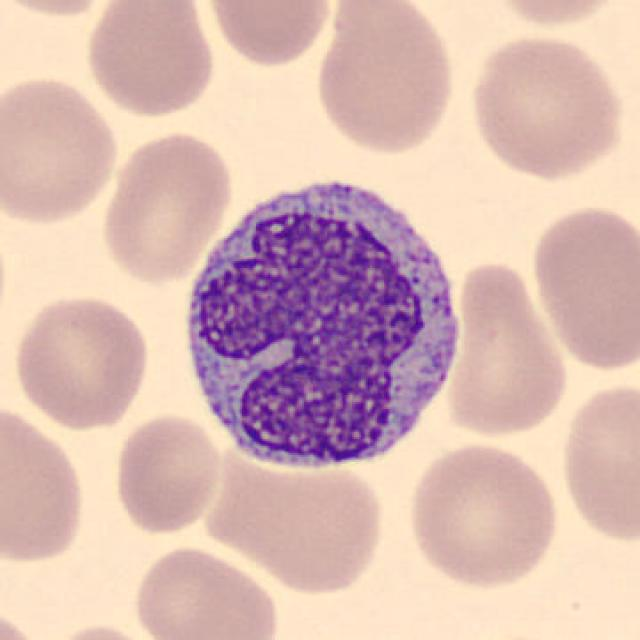Monocyte: (170, 157, 474, 481)
RBC: (201, 450, 391, 598), (464, 30, 629, 183), (404, 438, 564, 592), (441, 255, 572, 442), (311, 2, 461, 158), (96, 127, 236, 287), (9, 291, 153, 432), (526, 199, 638, 374), (0, 71, 123, 229), (80, 0, 220, 120), (128, 541, 283, 640), (0, 397, 89, 568), (108, 411, 224, 538), (556, 376, 640, 548), (199, 0, 338, 71), (484, 0, 631, 32), (39, 620, 165, 640), (0, 0, 126, 19), (0, 601, 48, 640)
